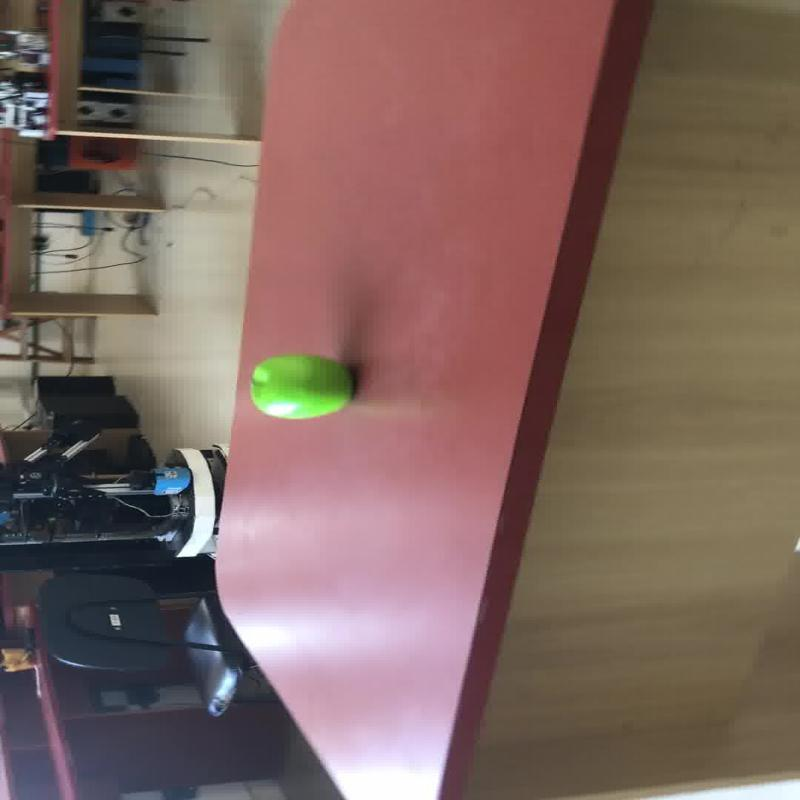apple: (247, 353, 354, 419)
